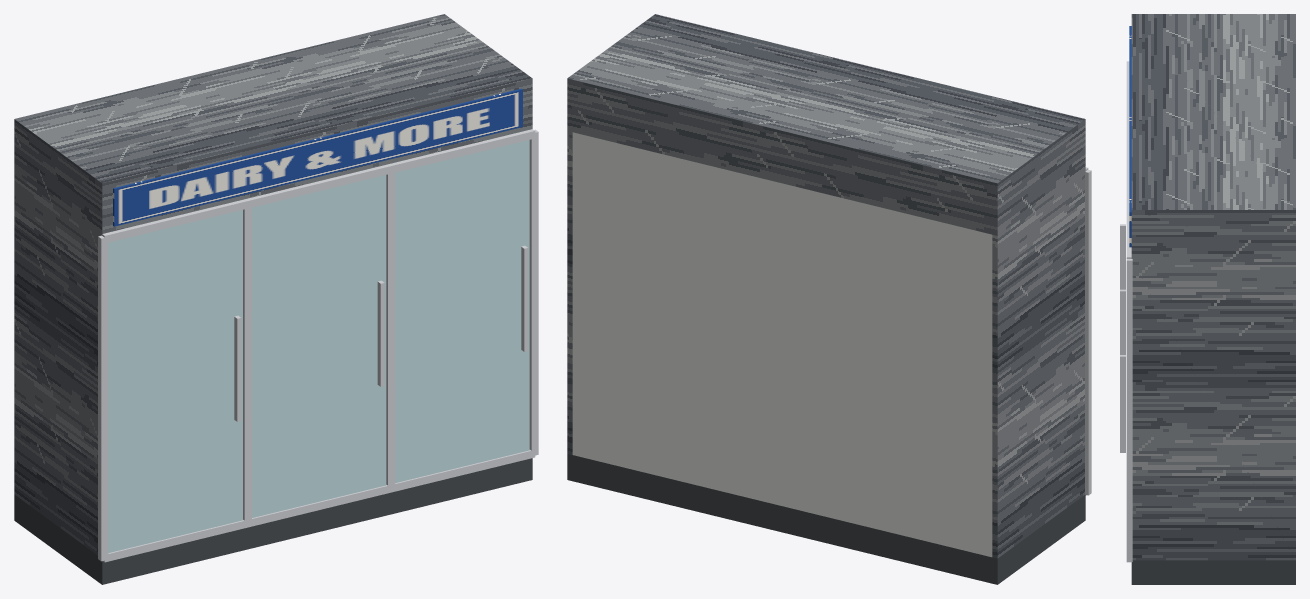
File: MKT_WallFridge_dairy.glb
3 views of the same model, side by side, from view 1: azimuth 30°, elevation 25°; view 2: azimuth 150°, elevation 25°; view 3: azimuth 270°, elevation 25° (orthographic). The views are drawn at different scales.
Visible parts, largest first — view 1: WallFridge; view 2: WallFridge; view 3: WallFridge.
Boxes of the visible parts, x1,y1,x2,y2 form: WallFridge: [14, 14, 538, 584]; WallFridge: [567, 14, 1091, 584]; WallFridge: [1120, 14, 1295, 584].
Size of the model in its own units: 2.44 by 2.14 by 0.91.
Materials: 19 (2 with a texture image).
